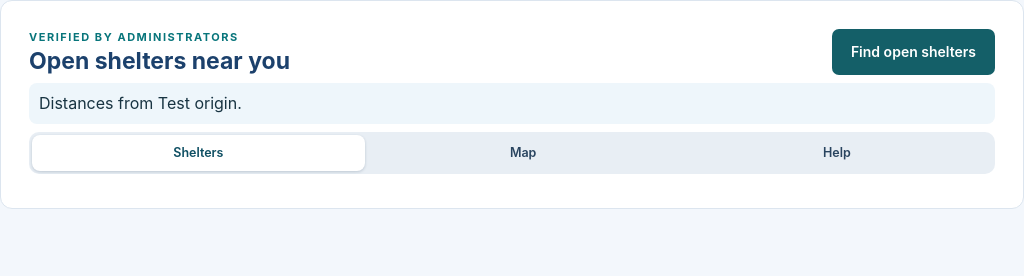
Test case: timeout and unmount clean up without automatic retry loops
The image size is (1024, 276).
Click the button "Find open shelters". click: (913, 52)
box: [832, 29, 995, 75]
Wait 75000 ms
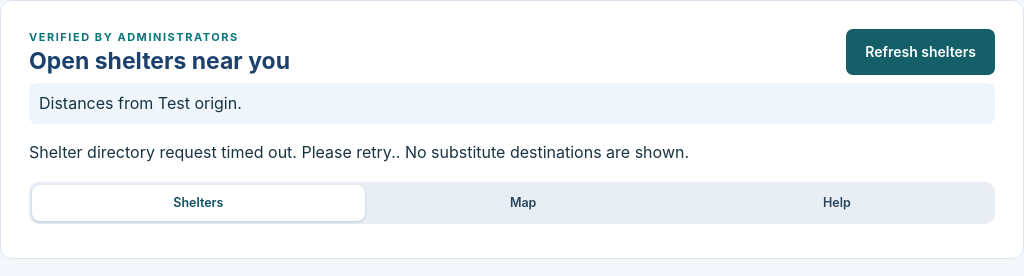
Now the text "timed out" is shown, box [29, 142, 396, 162]
